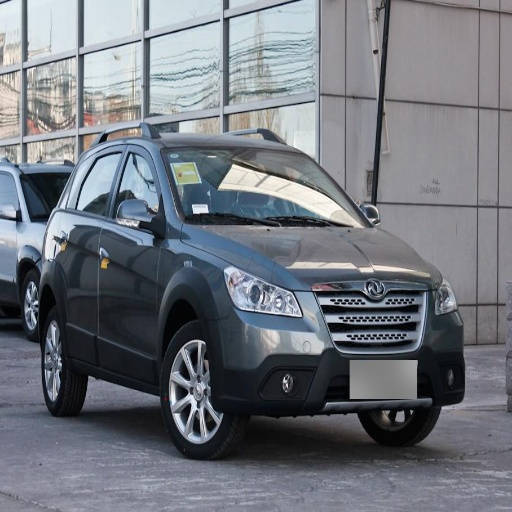front_bumper: (217, 289, 463, 416)
front_right_door: (100, 144, 165, 378)
front_right_light: (225, 266, 303, 318)
